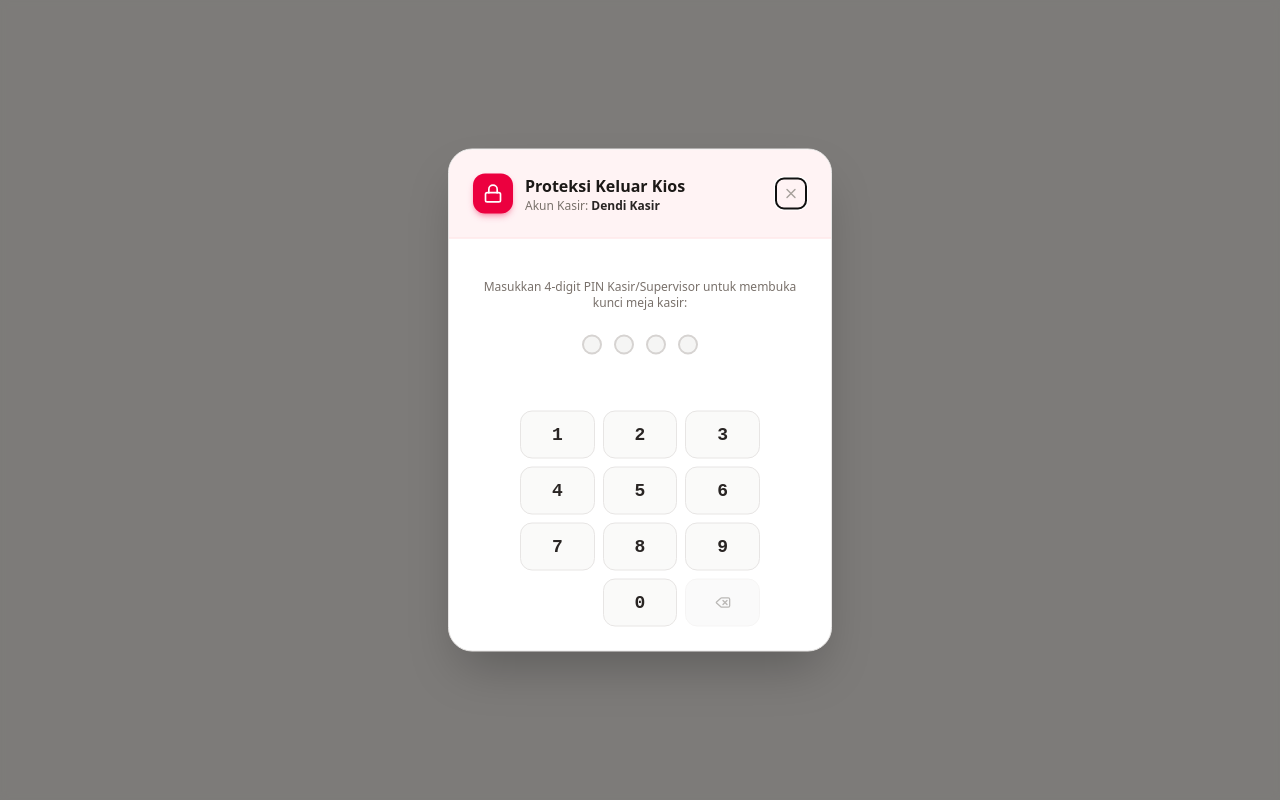
KioskExitDialog Component › stays locked and shows a connection message when the server is unreachable
Click the button "8": (640, 546) [603,522,677,570]
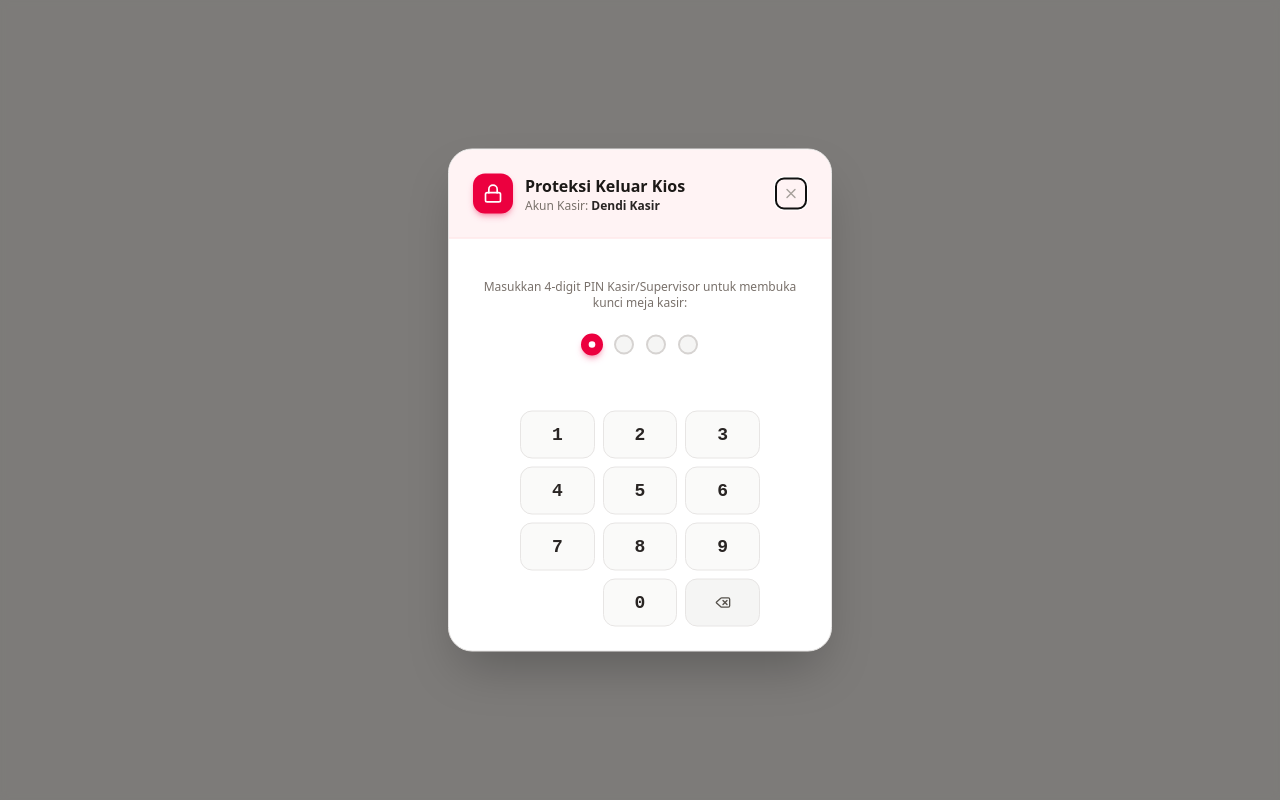
Click the button "5": (640, 490) [603,466,677,514]
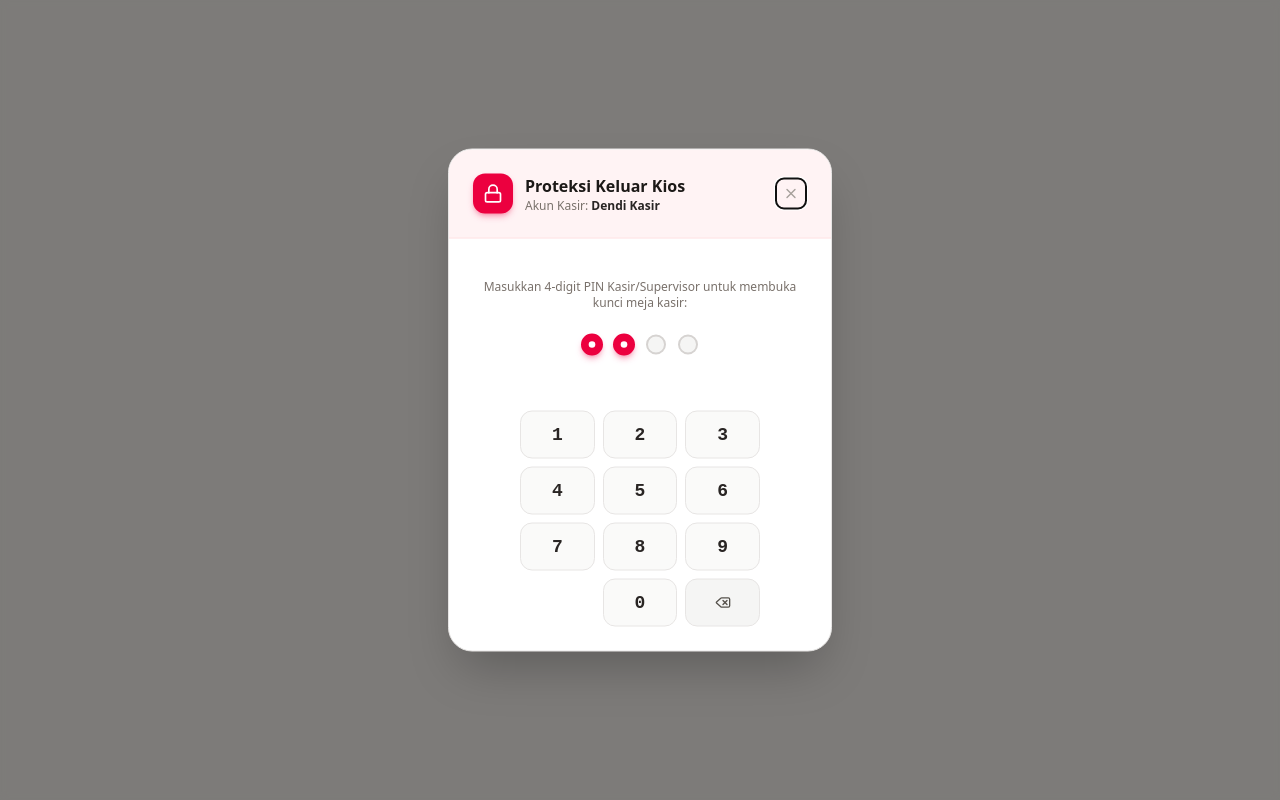
Click the button "2": (640, 434) [603,410,677,458]
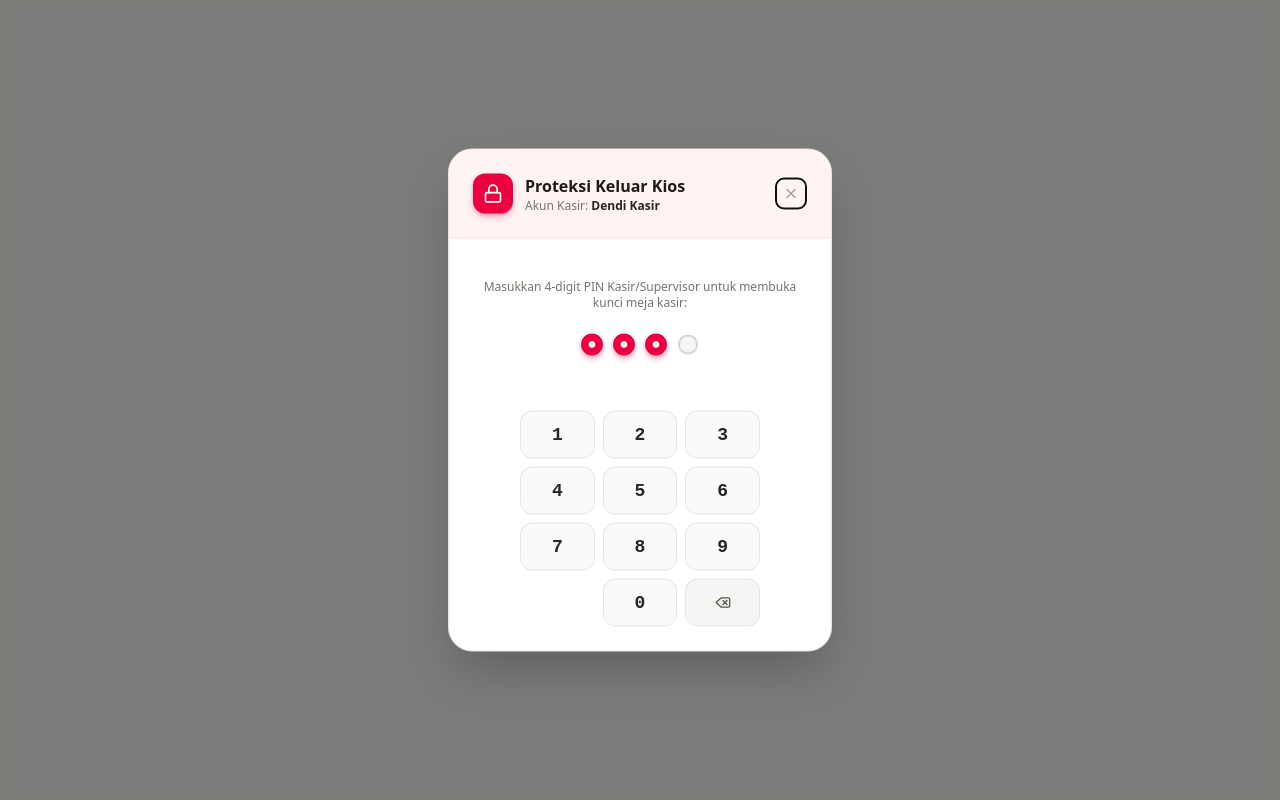
Click the button "0": (640, 602) [603,578,677,626]
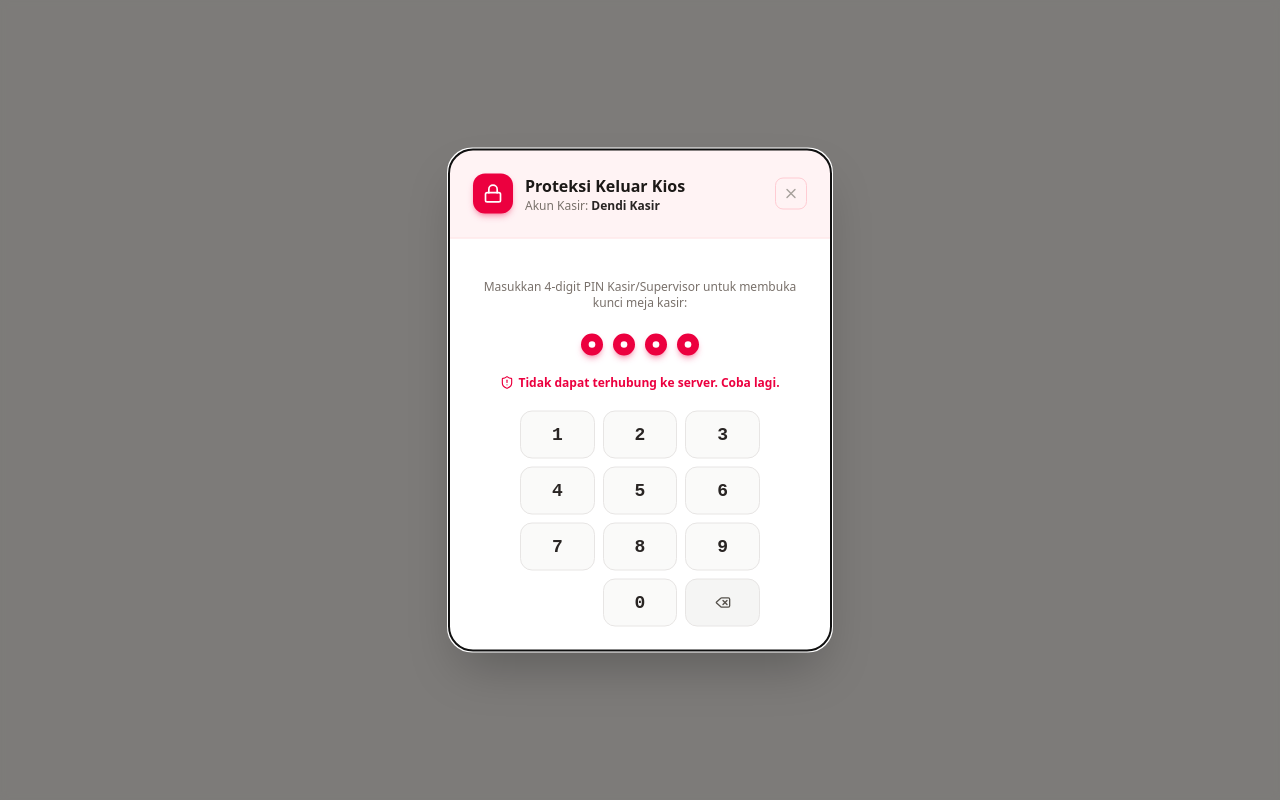
Expected: the text "Tidak dapat terhubung ke server. Coba lagi." is shown, [500,374,780,390]
